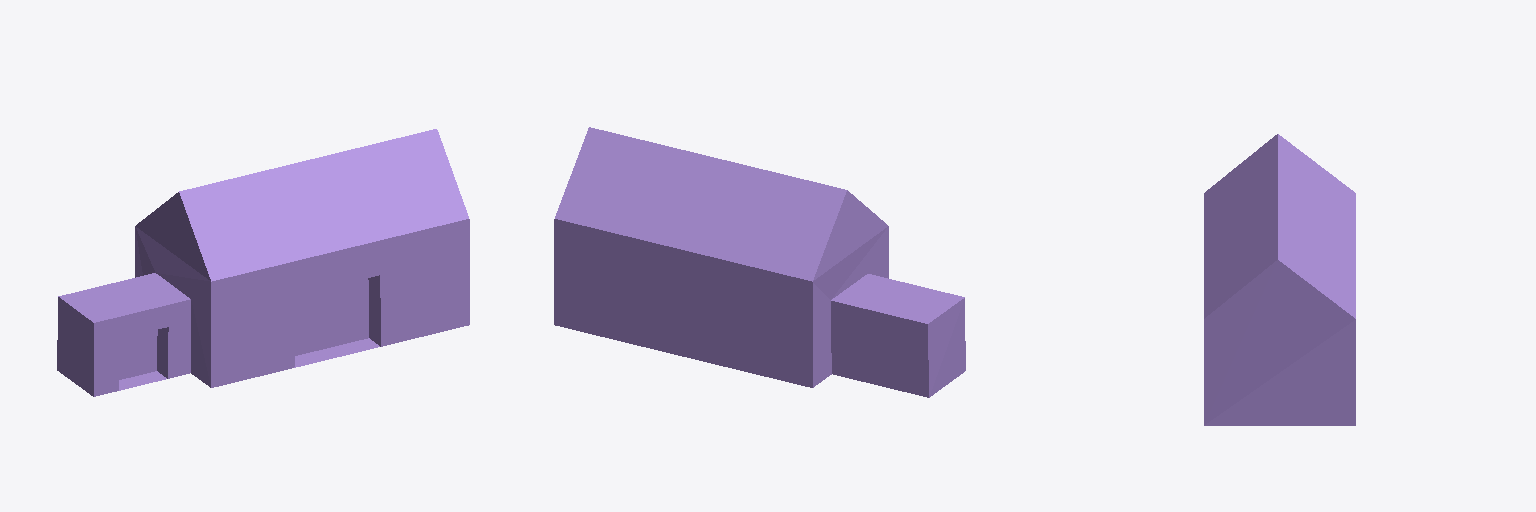
File: house.obj
3 views of the same model, side by side, from view 1: azimuth 30°, elevation 25°; view 2: azimuth 150°, elevation 25°; view 3: azimuth 270°, elevation 25° (orthographic).
Parts seen in each view (by area): view 1: Box03; view 2: Box03; view 3: Box03.
Boxes of the visible parts, <box> form: Box03: <box>57,129,469,396</box>; Box03: <box>554,127,965,397</box>; Box03: <box>1204,134,1355,425</box>.
Size of the model in its own units: 102 by 45.78 by 37.5.